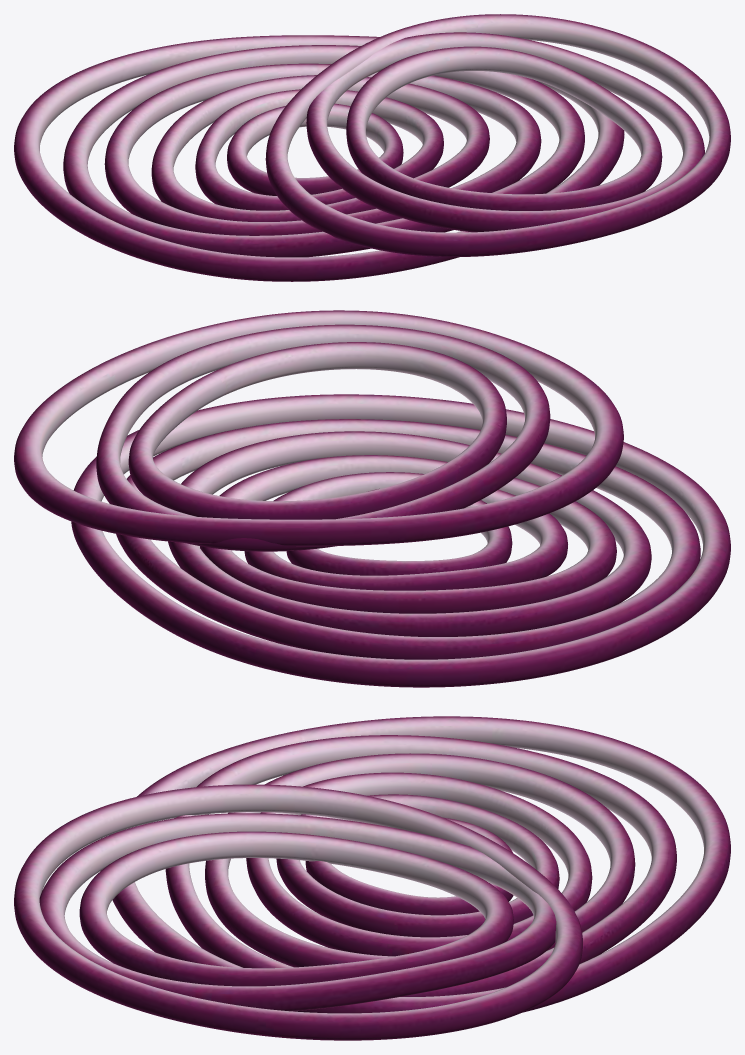
Rendered from onion_red_rings.glb.
The picture shows the model from 3 angles, top to bottom: view 1: azimuth 30°, elevation 25°; view 2: azimuth 150°, elevation 25°; view 3: azimuth 270°, elevation 25°; orthographic projection. The views are drawn at different scales.
Parts seen in each view (by area): view 1: onion_red_rings_web; view 2: onion_red_rings_web; view 3: onion_red_rings_web.
Boxes of the visible parts, <box> form: onion_red_rings_web: <box>14,14,730,281</box>; onion_red_rings_web: <box>14,310,730,687</box>; onion_red_rings_web: <box>14,716,730,1040</box>.
Bounding box in the file's own units: 0.0834 × 0.00655 × 0.0767.
Materials: 1 (1 with a texture image).
